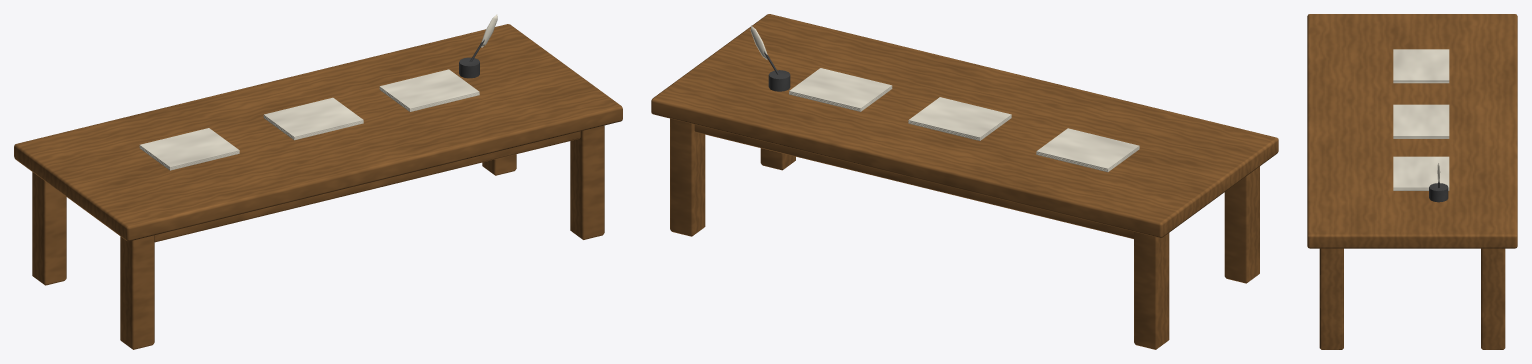
File: Furn_CouncilTable.fbx
3 renders of one model, left to right at view 1: azimuth 30°, elevation 25°; view 2: azimuth 150°, elevation 25°; view 3: azimuth 270°, elevation 25°, orthographic. The views are drawn at different scales.
Parts seen in each view (by area): view 1: Furn_CouncilTable_Mesh; view 2: Furn_CouncilTable_Mesh; view 3: Furn_CouncilTable_Mesh.
Boxes of the visible parts, x1,y1,x2,y2 form: Furn_CouncilTable_Mesh: (14,14,622,349); Furn_CouncilTable_Mesh: (651,14,1278,349); Furn_CouncilTable_Mesh: (1307,14,1517,349).
Bounding box in the file's own units: 3 × 1.07 × 1.2.
Materials: 3 (3 with a texture image).
